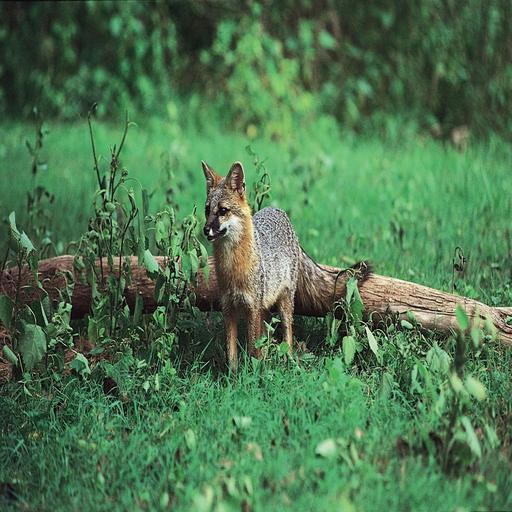Fox: (198, 160, 373, 382)
